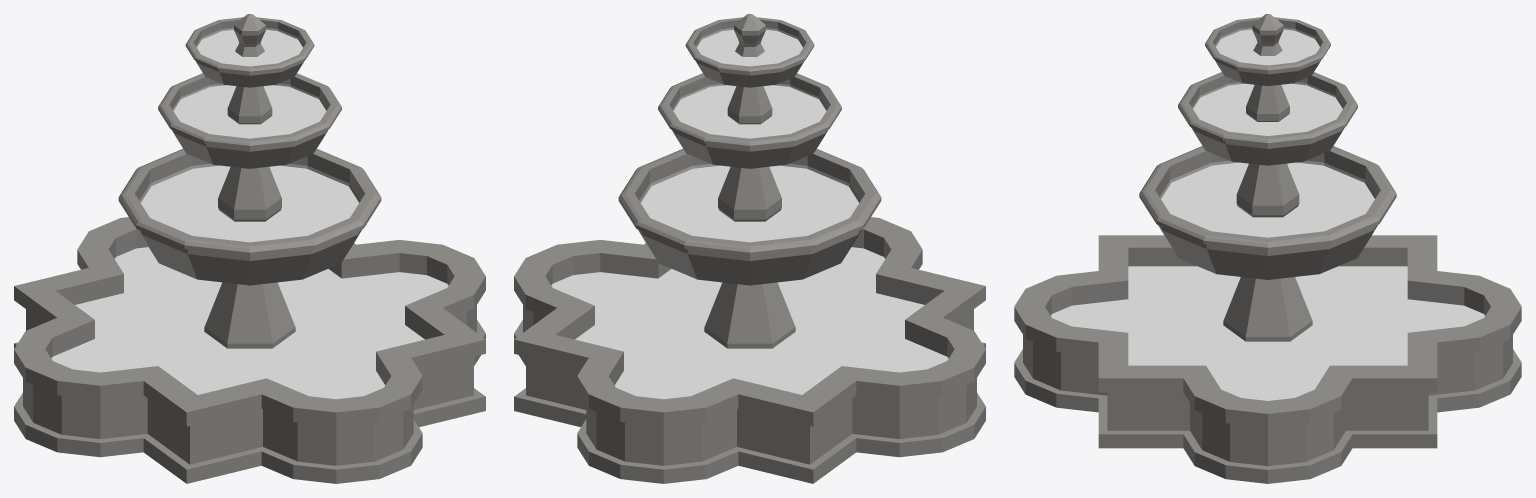
The model's file is SM_Props_Fountain.fbx.
3 views of the same model, side by side, from view 1: azimuth 30°, elevation 25°; view 2: azimuth 150°, elevation 25°; view 3: azimuth 270°, elevation 25° (orthographic). The views are drawn at different scales.
Visible parts, largest first — view 1: SM_Props_Fountain; view 2: SM_Props_Fountain; view 3: SM_Props_Fountain.
Part boxes in pixels (<box>): SM_Props_Fountain: <box>14,14,485,483</box>; SM_Props_Fountain: <box>514,14,985,483</box>; SM_Props_Fountain: <box>1014,14,1521,483</box>.
Bounding box in the file's own units: 493 × 389 × 493.
